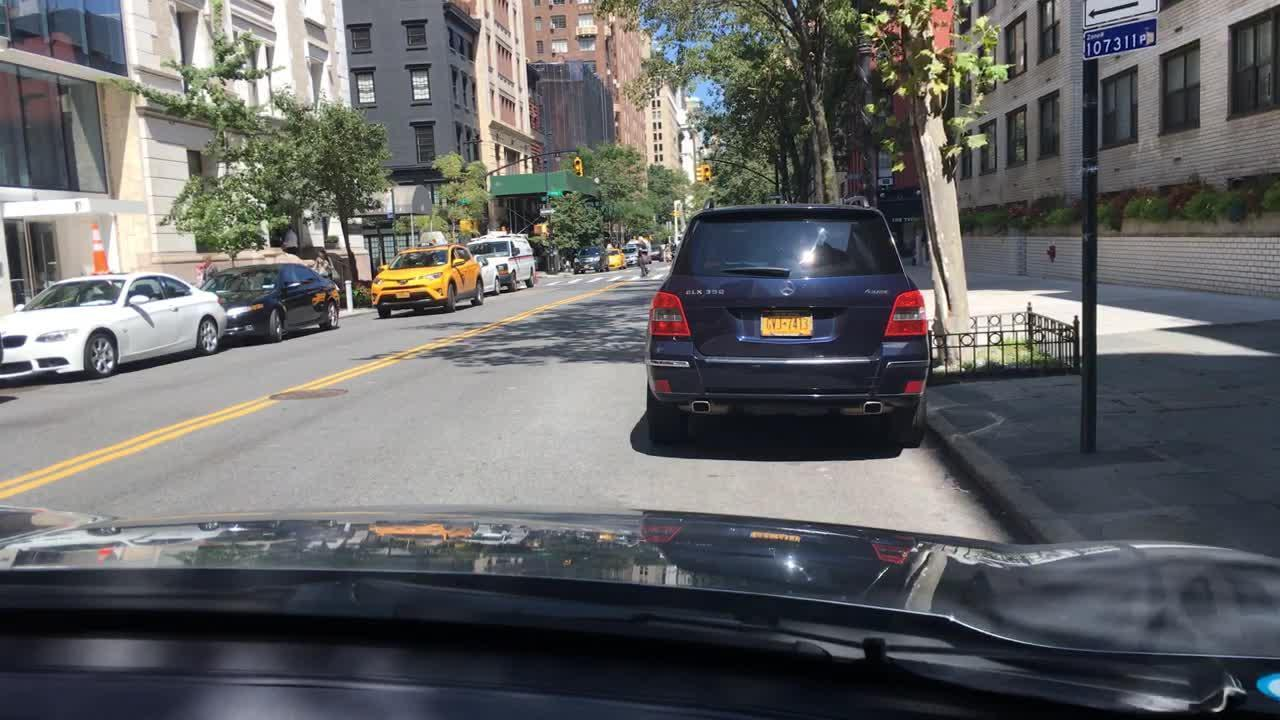Mercedes: (776, 275, 801, 302)
